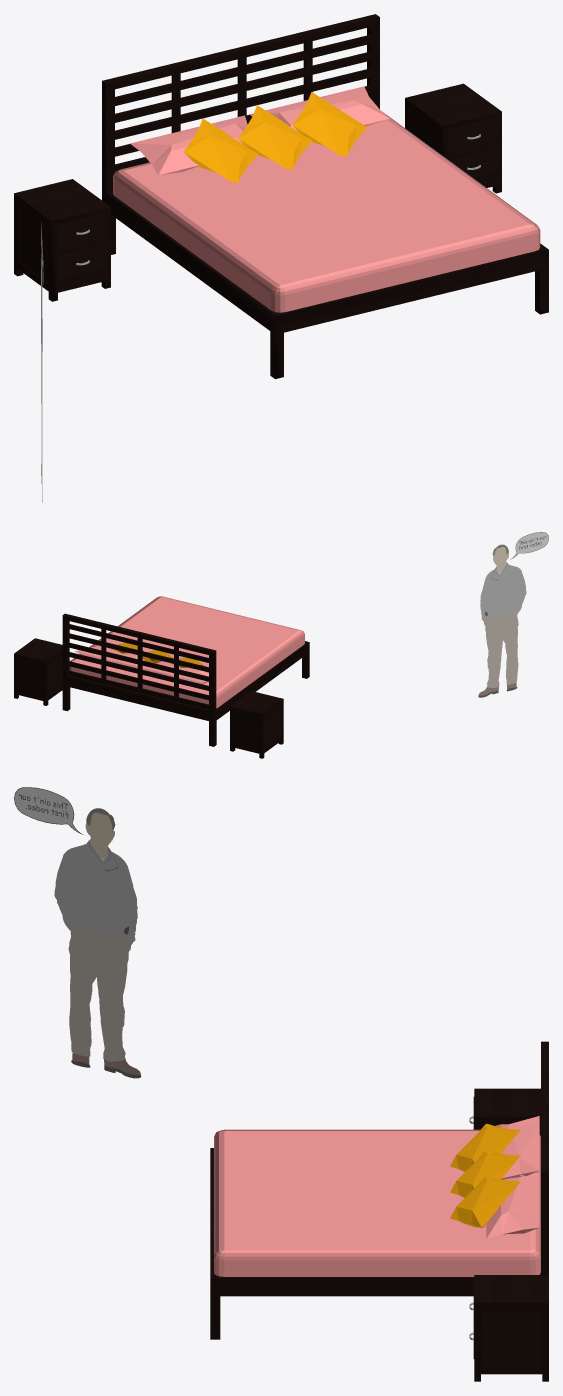
File: bed_windsor_1.glb
3 renders of one model, top to bottom at view 1: azimuth 30°, elevation 25°; view 2: azimuth 150°, elevation 25°; view 3: azimuth 270°, elevation 25°, orthographic. The views are drawn at different scales.
Visible parts, largest first — view 1: mesh_12_ROOT__bed_windosor__Component_36652_Layer0, mesh_29_ROOT__bed_windosor__Union_Layer0_47_27_14_ss, mesh_27_ROOT__bed_windosor__Union_Layer0_47_27_14_ss, mesh_20_ROOT__bed_windosor__Union_Layer0_47_27_14_ss, mesh_13_ROOT__bed_windosor__Union_Layer0_47_27_14_ss, mesh_22_ROOT__bed_windosor__Union_Layer0_51_34_20_ss, mesh_15_ROOT__bed_windosor__Union_Layer0_51_34_20_ss, mesh_10_ROOT__bed_windosor__Component_36487_Layer0_232_97_0_, mesh_35_ROOT__bed_windosor__Component_36487_Layer0_232_97_0_, mesh_33_ROOT__bed_windosor__Component_36487_Layer0_232_97_0_, mesh_31_ROOT__bed_windosor__Component_38651__Component_38652, mesh_32_ROOT__bed_windosor__Component_38651__Component_38652; view 2: mesh_12_ROOT__bed_windosor__Component_36652_Layer0, mesh_27_ROOT__bed_windosor__Union_Layer0_47_27_14_ss, mesh_29_ROOT__bed_windosor__Union_Layer0_47_27_14_ss, mesh_20_ROOT__bed_windosor__Union_Layer0_47_27_14_ss, mesh_13_ROOT__bed_windosor__Union_Layer0_47_27_14_ss, mesh_6_ROOT__Derrick_Layer0_153_137_122_ds, mesh_4_ROOT__Derrick_Layer0_142_142_142_ds, mesh_8_ROOT__Derrick__Rodeo#2_Layer0_226_226_226_ds, mesh_22_ROOT__bed_windosor__Union_Layer0_51_34_20_ss, mesh_31_ROOT__bed_windosor__Component_38651__Component_38652, mesh_15_ROOT__bed_windosor__Union_Layer0_51_34_20_ss, mesh_32_ROOT__bed_windosor__Component_38651__Component_38652; view 3: mesh_12_ROOT__bed_windosor__Component_36652_Layer0, mesh_29_ROOT__bed_windosor__Union_Layer0_47_27_14_ss, mesh_6_ROOT__Derrick_Layer0_153_137_122_ds, mesh_4_ROOT__Derrick_Layer0_142_142_142_ds, mesh_13_ROOT__bed_windosor__Union_Layer0_47_27_14_ss, mesh_15_ROOT__bed_windosor__Union_Layer0_51_34_20_ss, mesh_20_ROOT__bed_windosor__Union_Layer0_47_27_14_ss, mesh_32_ROOT__bed_windosor__Component_38651__Component_38652, mesh_35_ROOT__bed_windosor__Component_36487_Layer0_232_97_0_, mesh_31_ROOT__bed_windosor__Component_38651__Component_38652, mesh_8_ROOT__Derrick__Rodeo#2_Layer0_226_226_226_ds, mesh_10_ROOT__bed_windosor__Component_36487_Layer0_232_97_0_ (+3 smaller).
Boxes of the visible parts, x1,y1,x2,y2 form: mesh_12_ROOT__bed_windosor__Component_36652_Layer0: (113,112,540,312); mesh_29_ROOT__bed_windosor__Union_Layer0_47_27_14_ss: (102,14,548,379); mesh_27_ROOT__bed_windosor__Union_Layer0_47_27_14_ss: (111,16,370,171); mesh_20_ROOT__bed_windosor__Union_Layer0_47_27_14_ss: (14,179,110,301); mesh_13_ROOT__bed_windosor__Union_Layer0_47_27_14_ss: (405,83,501,193); mesh_22_ROOT__bed_windosor__Union_Layer0_51_34_20_ss: (19,205,106,282); mesh_15_ROOT__bed_windosor__Union_Layer0_51_34_20_ss: (410,109,497,178); mesh_10_ROOT__bed_windosor__Component_36487_Layer0_232_97_0_: (183,118,258,182); mesh_35_ROOT__bed_windosor__Component_36487_Layer0_232_97_0_: (292,92,367,156); mesh_33_ROOT__bed_windosor__Component_36487_Layer0_232_97_0_: (238,105,312,169); mesh_31_ROOT__bed_windosor__Component_38651__Component_38652: (130,115,247,175); mesh_32_ROOT__bed_windosor__Component_38651__Component_38652: (249,86,389,130); mesh_12_ROOT__bed_windosor__Component_36652_Layer0: (69,596,304,708); mesh_27_ROOT__bed_windosor__Union_Layer0_47_27_14_ss: (67,615,210,709); mesh_29_ROOT__bed_windosor__Union_Layer0_47_27_14_ss: (62,613,309,746); mesh_20_ROOT__bed_windosor__Union_Layer0_47_27_14_ss: (230,691,283,758); mesh_13_ROOT__bed_windosor__Union_Layer0_47_27_14_ss: (14,638,62,705); mesh_6_ROOT__Derrick_Layer0_153_137_122_ds: (483,610,518,687); mesh_4_ROOT__Derrick_Layer0_142_142_142_ds: (480,564,526,621); mesh_8_ROOT__Derrick__Rodeo#2_Layer0_226_226_226_ds: (513,532,548,557); mesh_22_ROOT__bed_windosor__Union_Layer0_51_34_20_ss: (265,705,280,747); mesh_31_ROOT__bed_windosor__Component_38651__Component_38652: (142,661,217,684); mesh_15_ROOT__bed_windosor__Union_Layer0_51_34_20_ss: (48,654,62,695); mesh_32_ROOT__bed_windosor__Component_38651__Component_38652: (74,645,144,668); mesh_12_ROOT__bed_windosor__Component_36652_Layer0: (214,1129,540,1276); mesh_29_ROOT__bed_windosor__Union_Layer0_47_27_14_ss: (210,1041,548,1339); mesh_6_ROOT__Derrick_Layer0_153_137_122_ds: (68,923,131,1061); mesh_4_ROOT__Derrick_Layer0_142_142_142_ds: (54,843,137,944); mesh_13_ROOT__bed_windosor__Union_Layer0_47_27_14_ss: (474,1275,548,1381); mesh_15_ROOT__bed_windosor__Union_Layer0_51_34_20_ss: (473,1283,540,1366); mesh_20_ROOT__bed_windosor__Union_Layer0_47_27_14_ss: (474,1088,540,1136); mesh_32_ROOT__bed_windosor__Component_38651__Component_38652: (486,1173,539,1238); mesh_35_ROOT__bed_windosor__Component_36487_Layer0_232_97_0_: (450,1175,520,1228); mesh_31_ROOT__bed_windosor__Component_38651__Component_38652: (495,1116,539,1179); mesh_8_ROOT__Derrick__Rodeo#2_Layer0_226_226_226_ds: (14,788,77,831); mesh_10_ROOT__bed_windosor__Component_36487_Layer0_232_97_0_: (450,1123,520,1171).
Bounding box in the file's own units: 4742 × 1794 × 3239.
14 materials, 3 textured.
